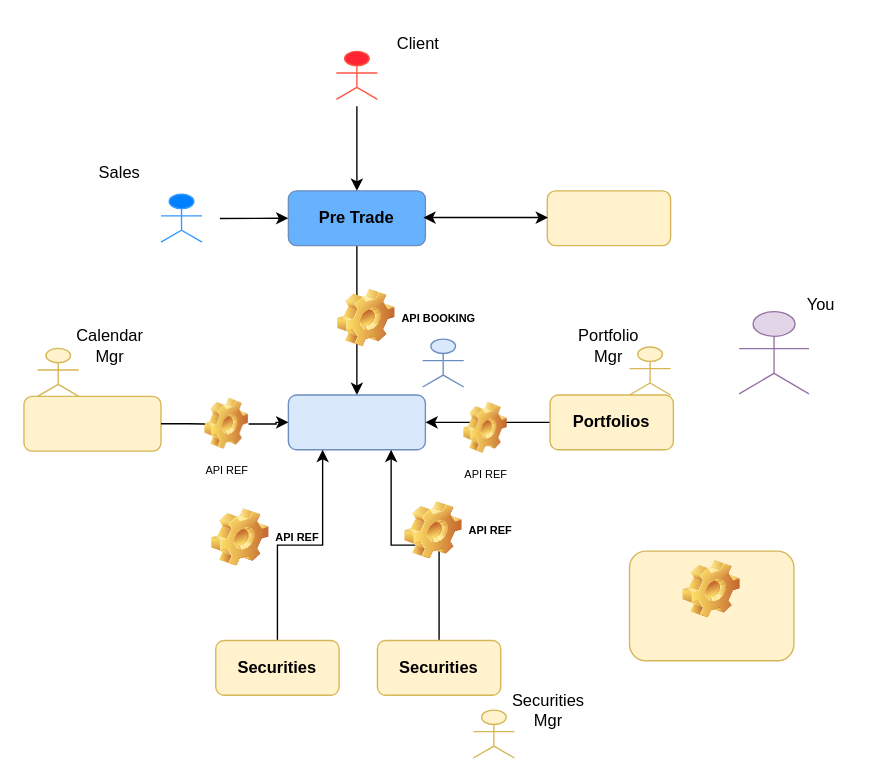
Some shapes in this 886 by 782 pixel diagram are drawn without their labels. The box of each missing label's shape, as (x1, y1, x2, y2) in pixels:
Calendars: (23, 395, 161, 451)
Pricing: (546, 189, 671, 246)
SG API Manager: (628, 550, 794, 661)
Trade: (287, 394, 425, 450)
